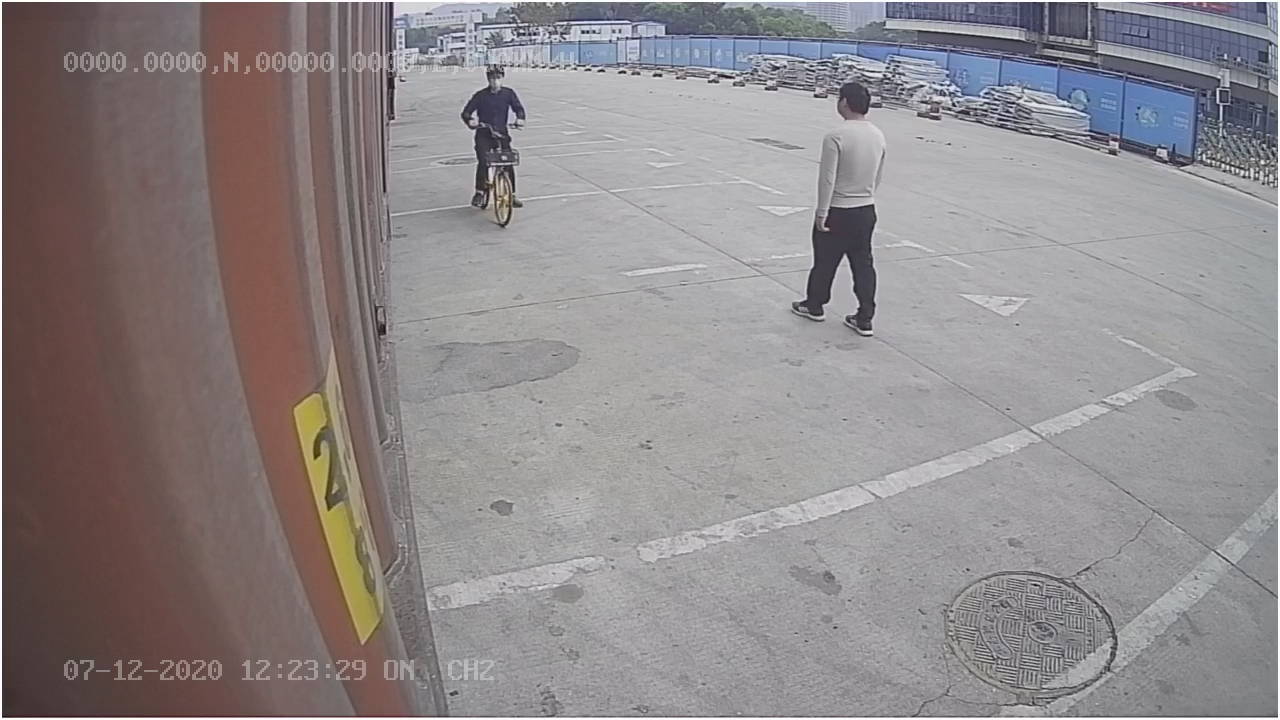person: (784, 76, 892, 336)
